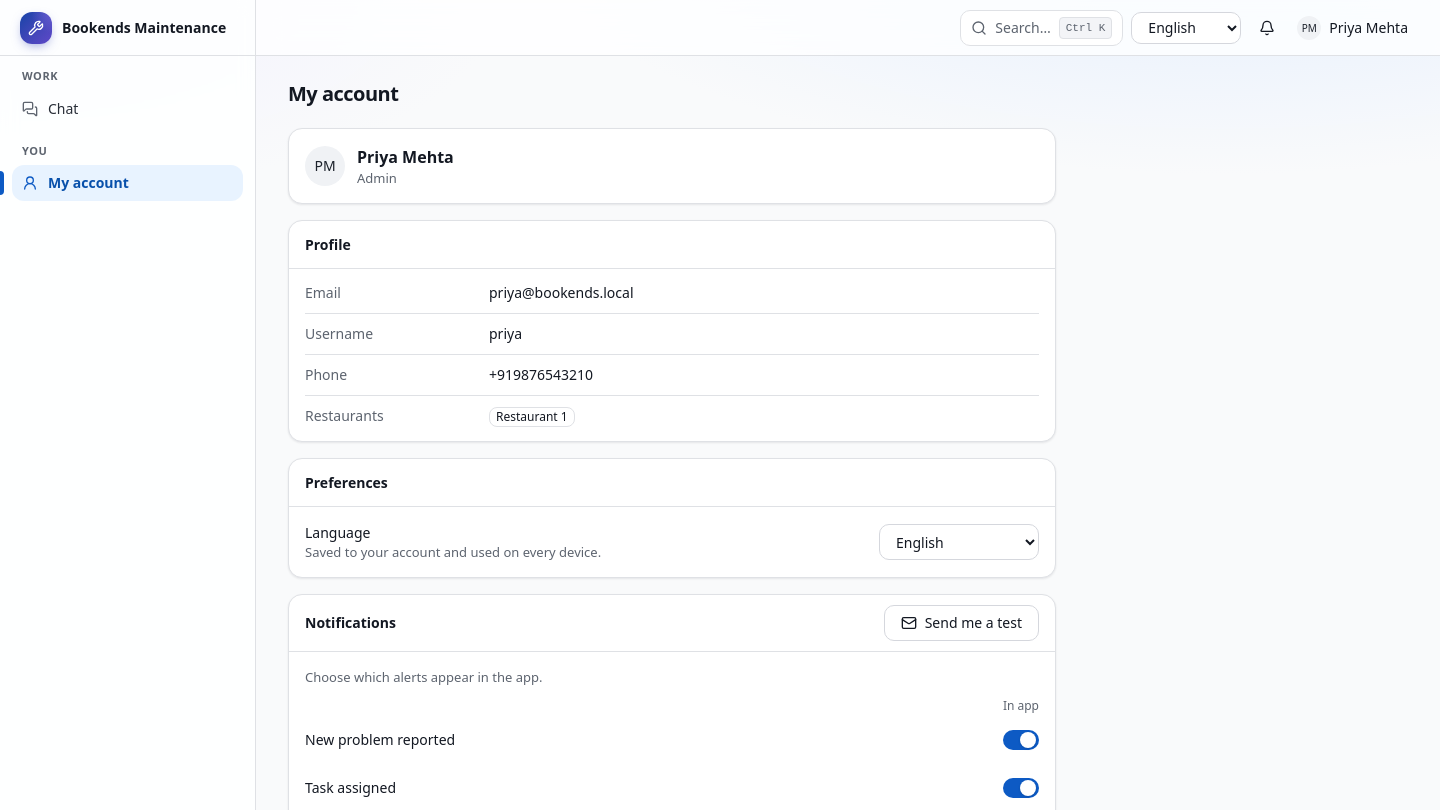
Scenario: session › signing out returns to the sign-in page with a confirmation
This screenshot has width=1440, height=810.
expect the heading "My account" is shown: met, box [288, 80, 398, 107]
Step 1. Click the button with aria-label "Account menu" → [1355, 28], box [1293, 12, 1416, 44]
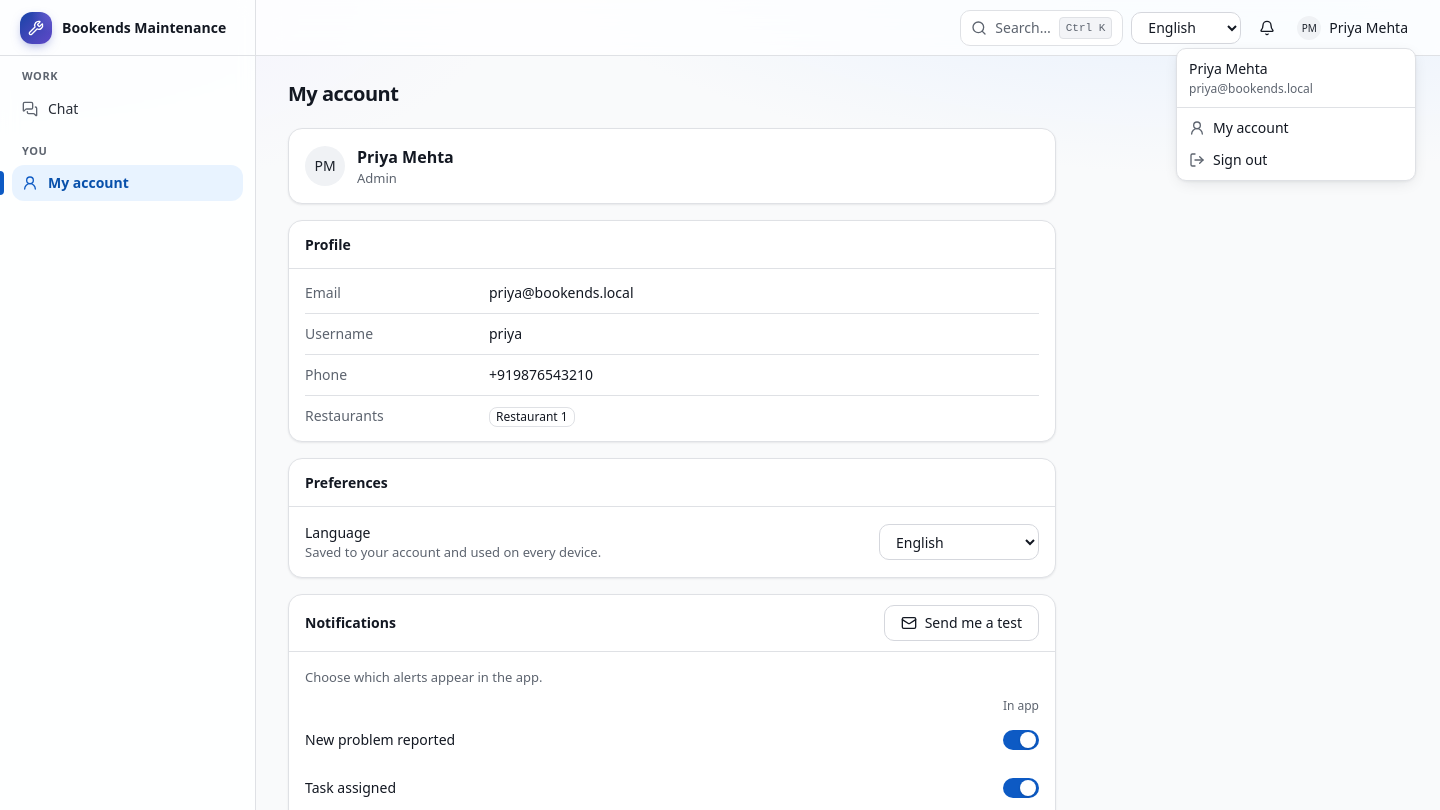
Step 2. Click the menu item "Sign out" → [1228, 160], box [1189, 150, 1267, 169]
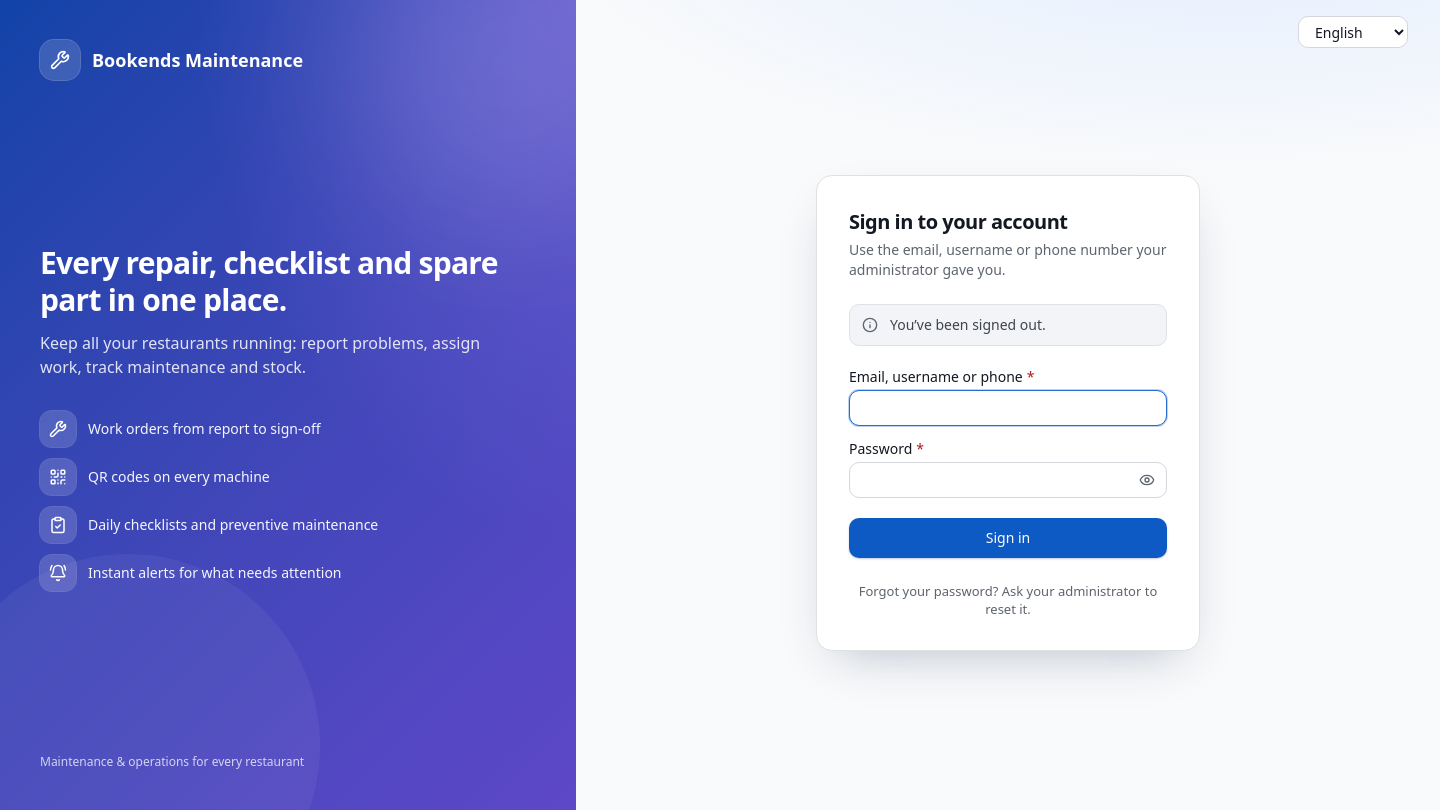
expect the text "You’ve been signed out." is shown: met, box [890, 315, 1046, 334]
